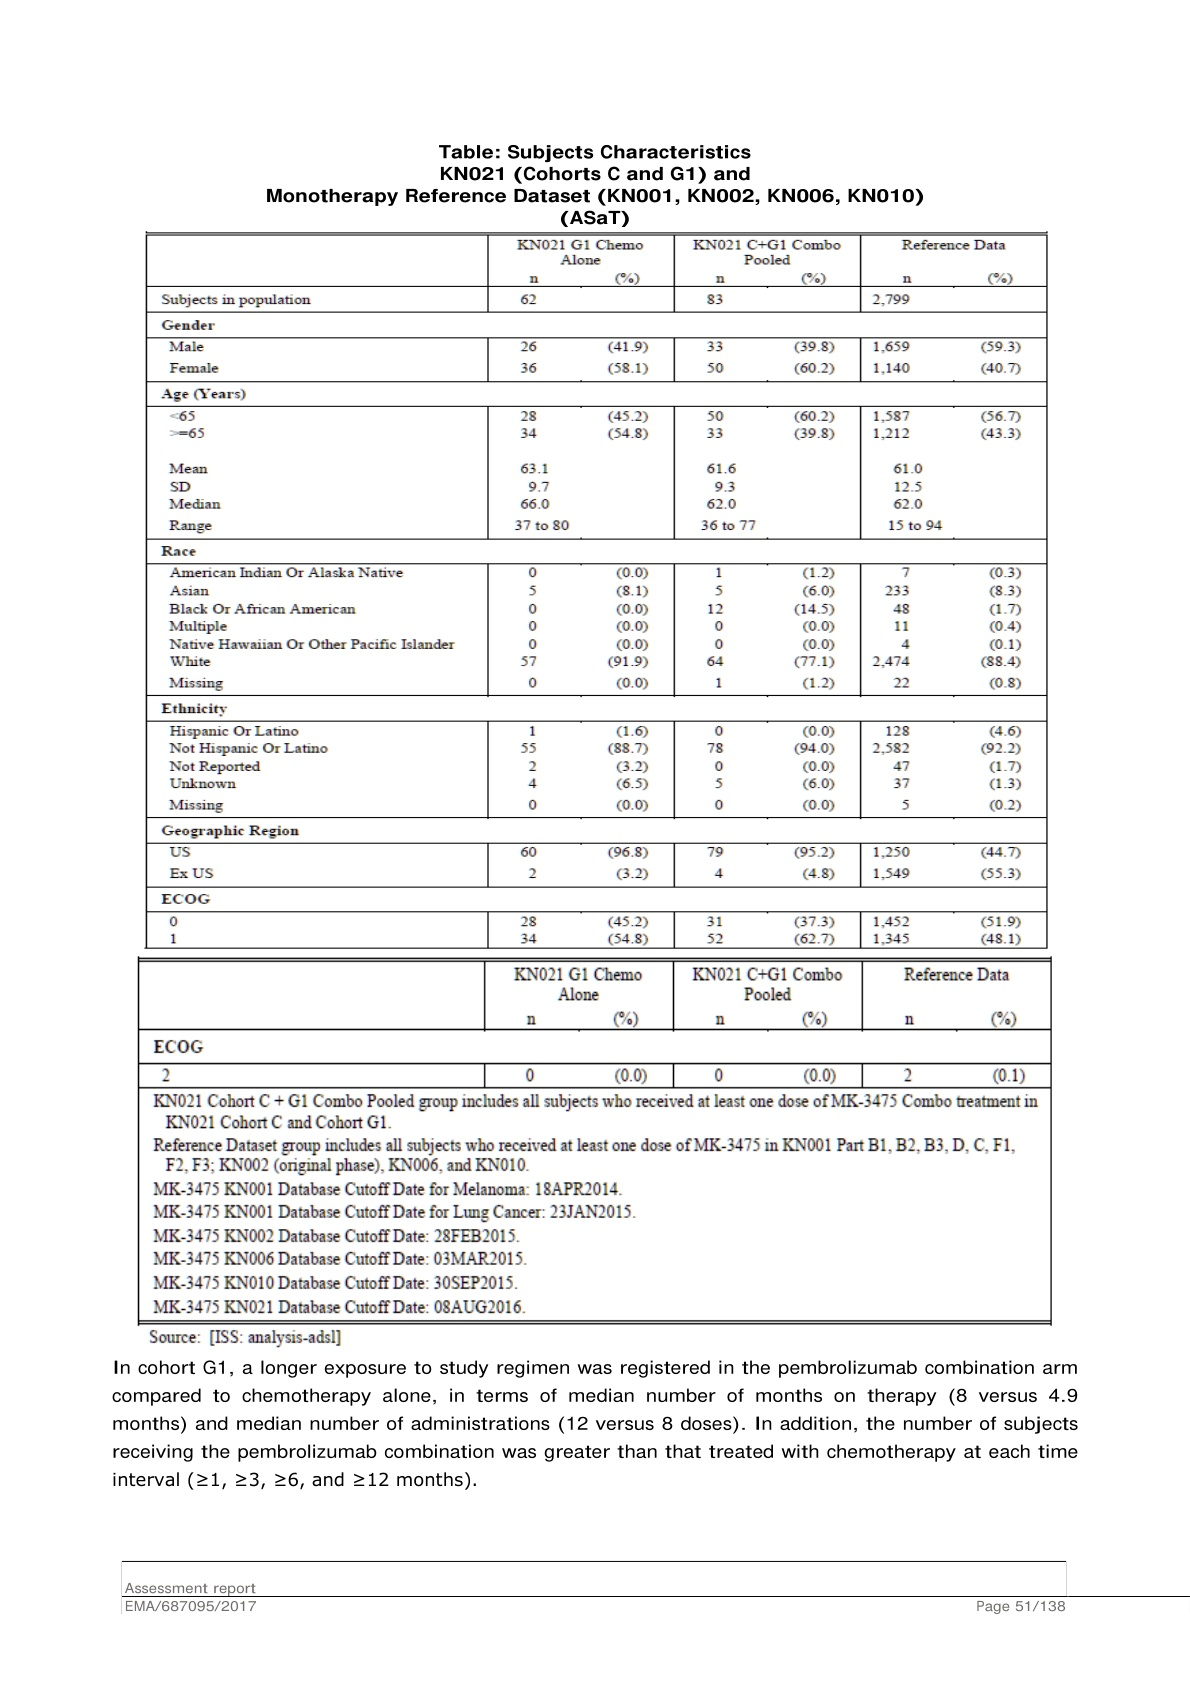merged_cells: (144, 231, 1050, 950), (135, 956, 1053, 1327)
